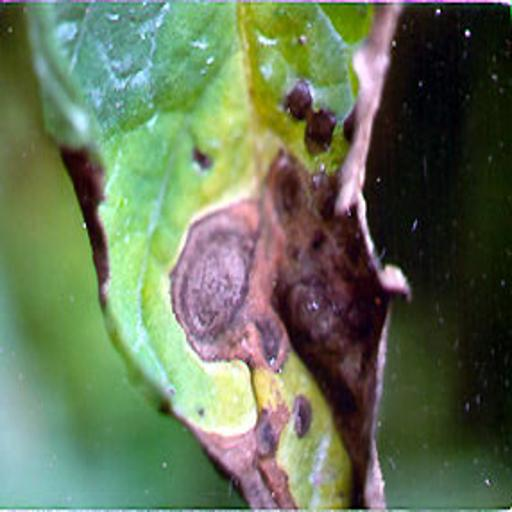Early Blight: (45, 84, 409, 512)
